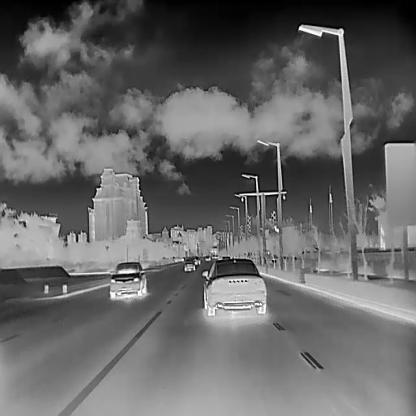car: (201, 257, 266, 314), (109, 261, 145, 298), (183, 256, 194, 270), (193, 255, 200, 264), (204, 254, 210, 260), (211, 254, 214, 258)
